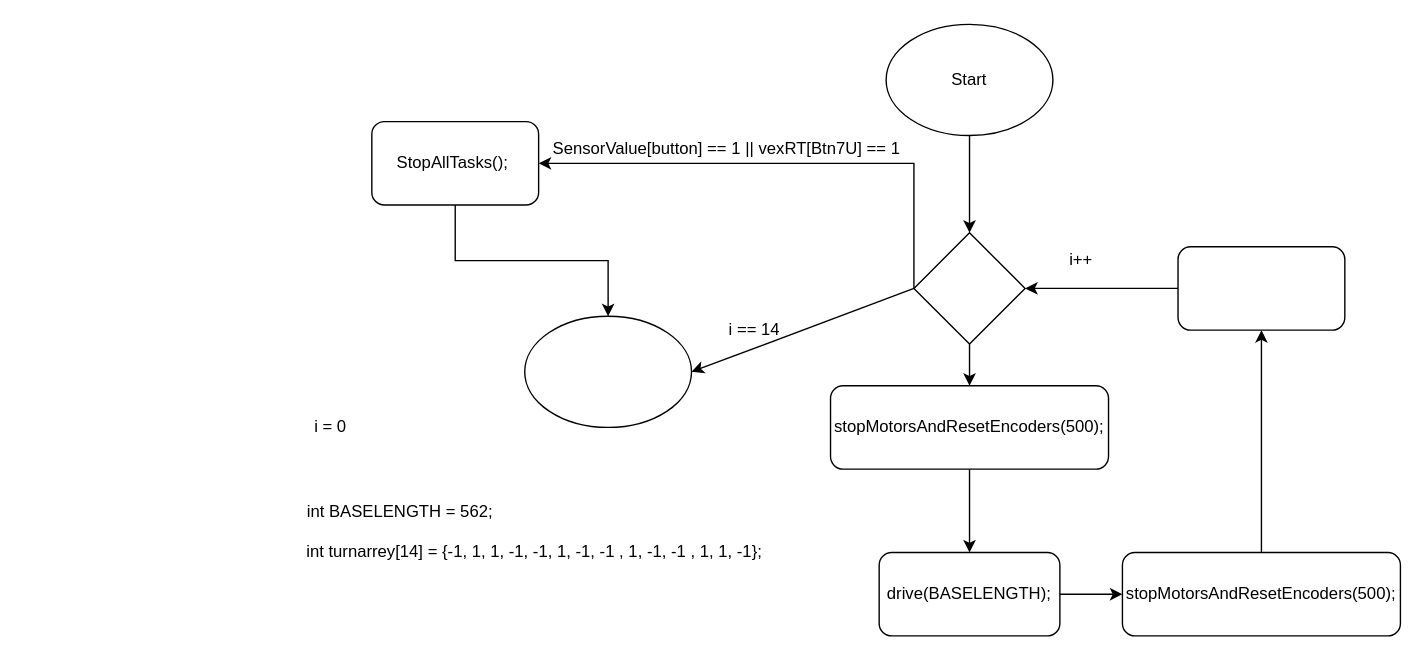
The diagram is 1425 pixels wide and 660 high, and some of its shapes have lost their labels. The shapes that lost their labels are listed below. From the top down, each one's centre as x and y in pixels, then its label:
the point at 1261,287: turn(90,turnarrey[i]);
the point at 607,371: Stop
